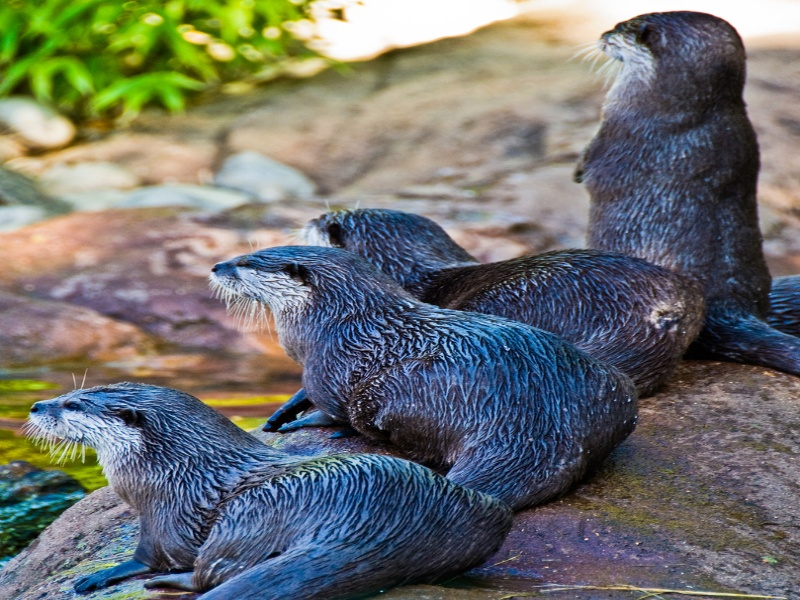minkish: (207, 240, 641, 514), (29, 377, 506, 587), (310, 201, 700, 397), (570, 16, 787, 356)
